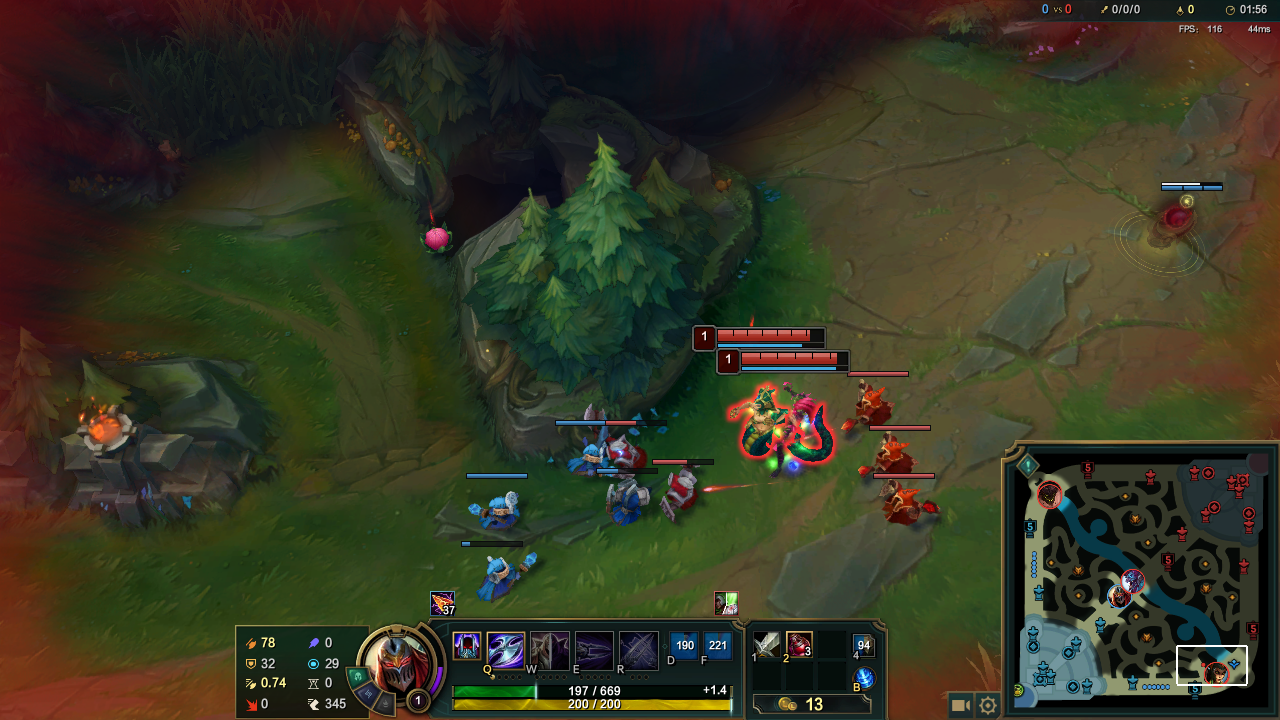DFYX: (717, 328, 824, 342), (741, 351, 849, 363)
